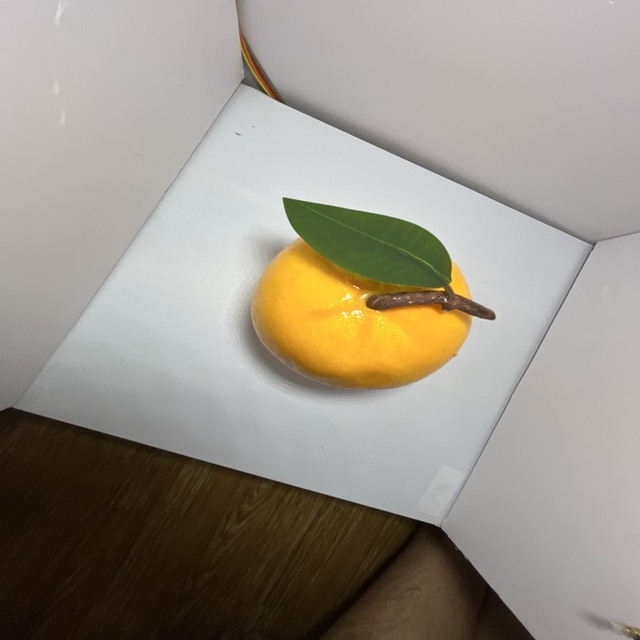Cam vang: (253, 208, 478, 395)
